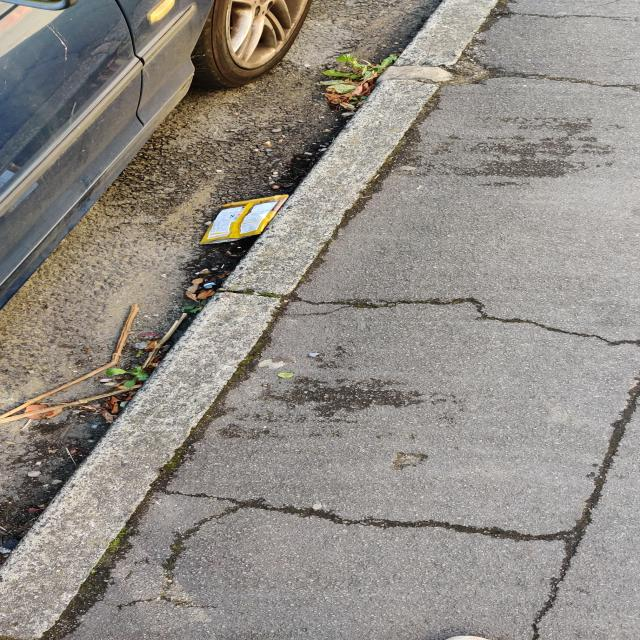litter: (199, 194, 289, 244)
